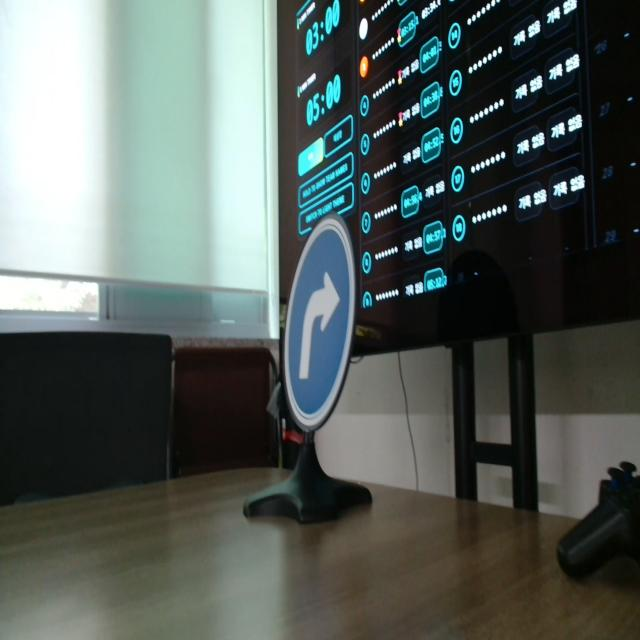right_dierection: (280, 215, 358, 426)
